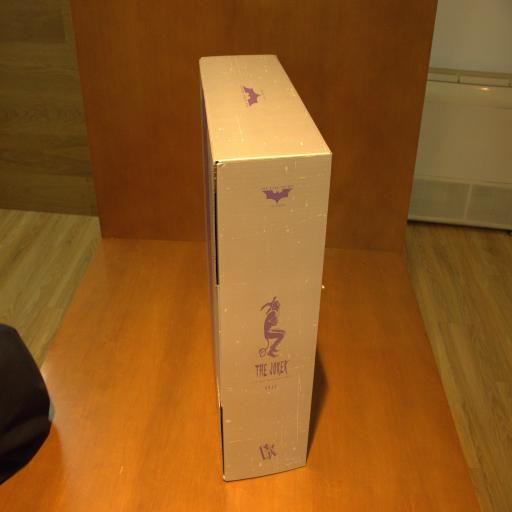Joker: (199, 56, 332, 478)
